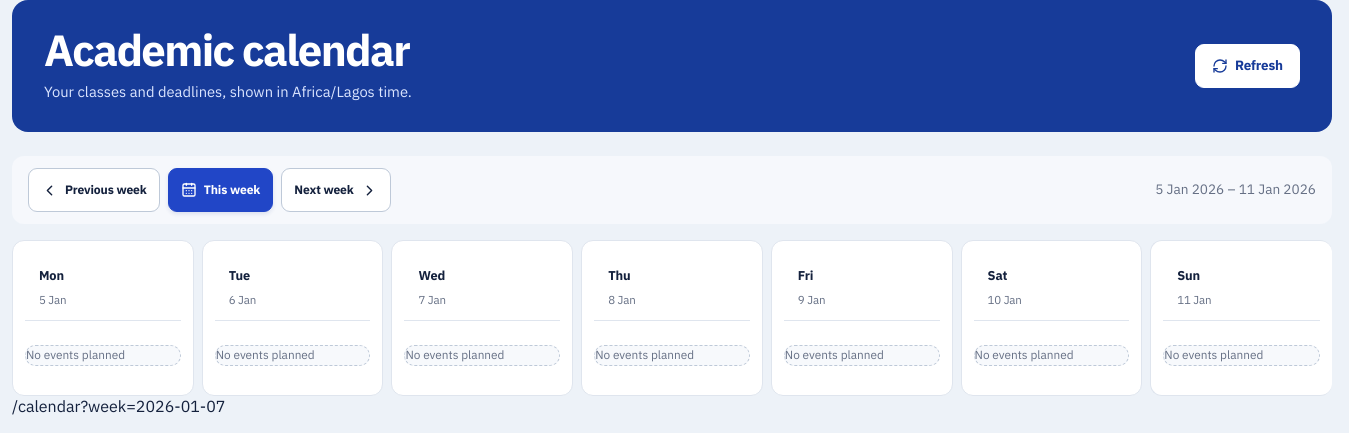
Test: calendar keeps the selected week in the URL and navigates by seven days
The image size is (1349, 433).
Expected: the text "5 Jan 2026 – 11 Jan 2026" is shown, [1155,179,1316,201]
Expected: the text with test id "location" reads "/calendar?week=2026-01-07", [12,396,225,416]
Click the button "Next week" at (336, 190), box [281,168,391,212]
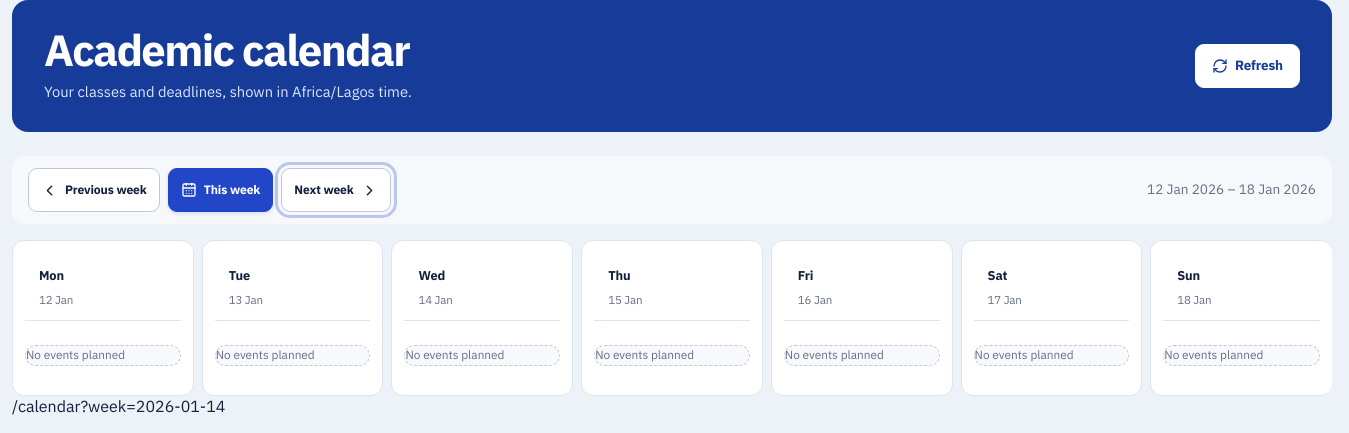
Result: the text with test id "location" reads "/calendar?week=2026-01-14" at [12,396,225,416]
Result: the text "12 Jan 2026 – 18 Jan 2026" is shown at [1147,179,1316,201]
